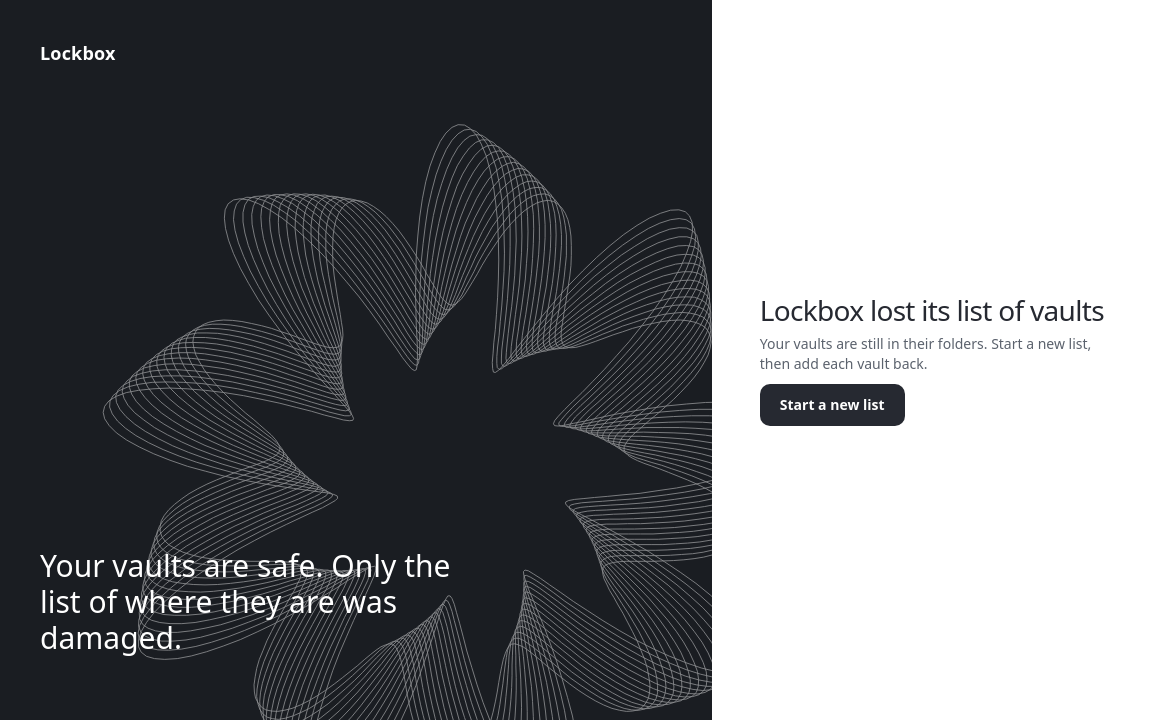
Test: start_a_new_list_asks_once_then_reads_the_list_again_and_shows_welcome
Click the button "Start a new list".
click(832, 405)  # box x1=760 y1=384 x2=905 y2=426
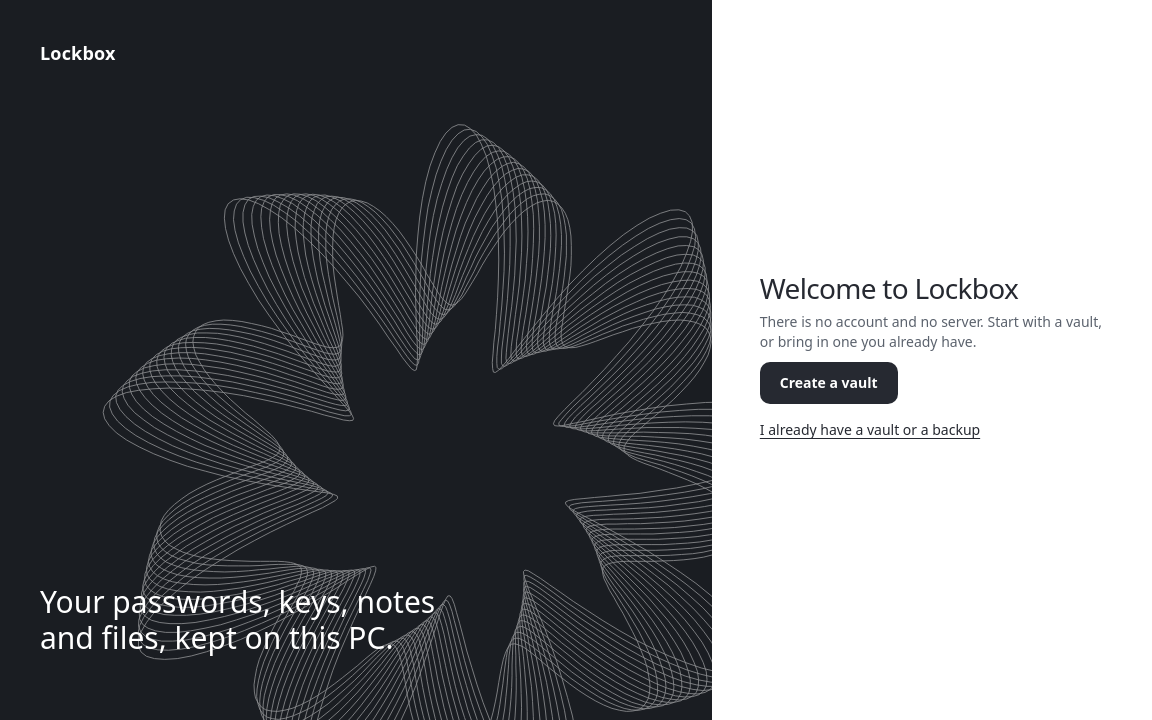
Result: the heading "Welcome to Lockbox" is shown at x1=760 y1=269 x2=1018 y2=307
Result: the heading "Lockbox lost its list of vaults" is gone
